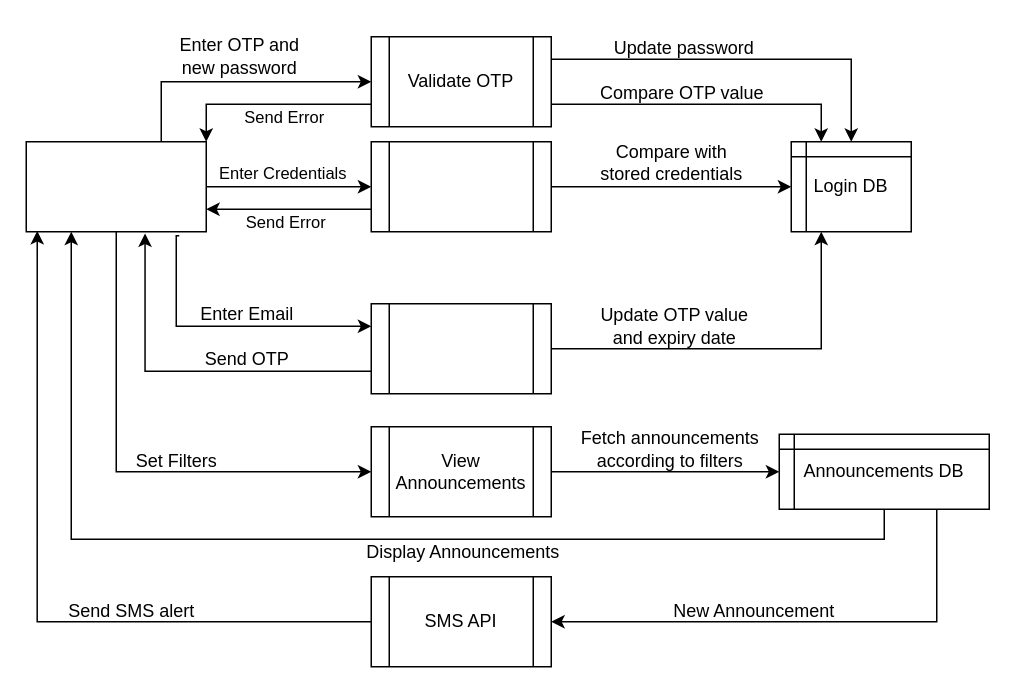
The diagram is 1016 pixels wide and 693 high, and some of its shapes have lost their labels. The shapes that lost their labels are listed below. From the top down, each one's box as (x1, y1, x2, y2) in pixels, then its label:
(25, 140, 206, 232): Student
(370, 140, 551, 232): Validate Credentials
(370, 302, 551, 394): Reset Password
